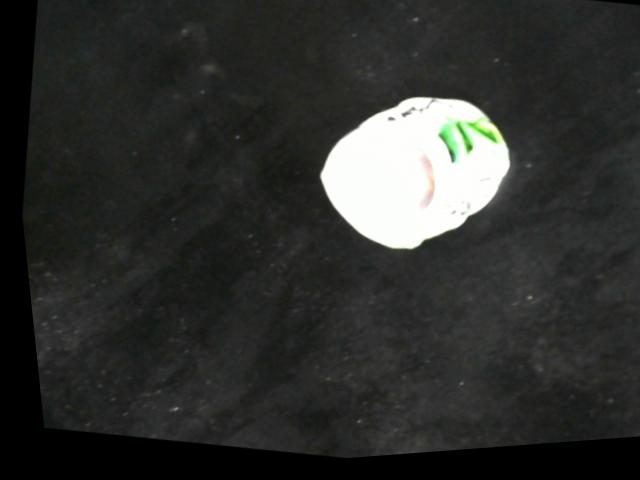can: (306, 89, 514, 273)
